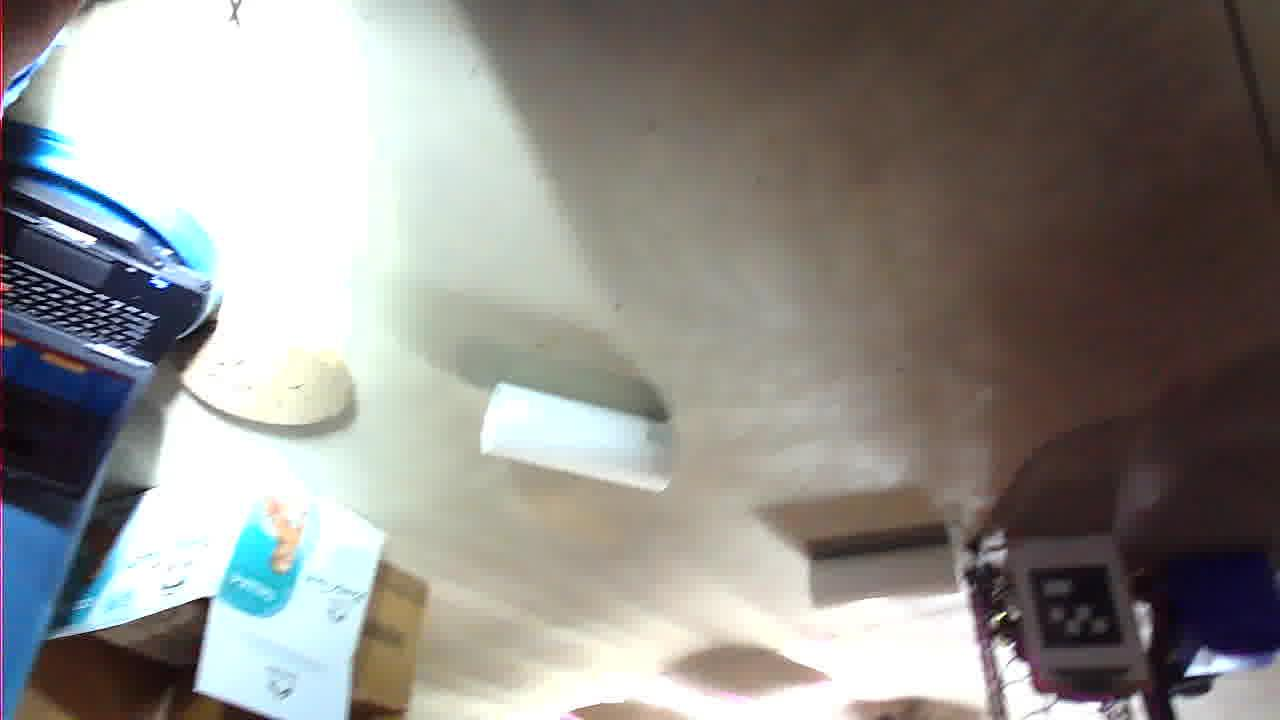coral: (603, 228, 802, 338), (321, 110, 472, 176)
